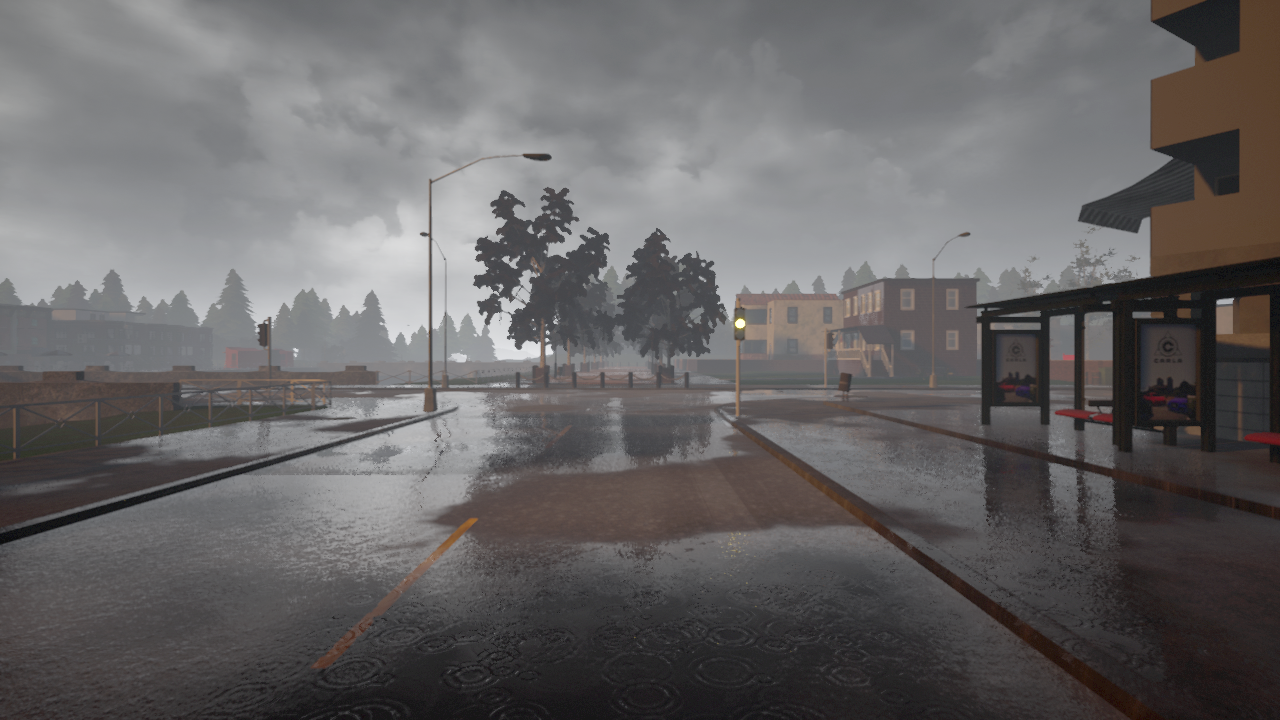yellow: (732, 307, 747, 341)
